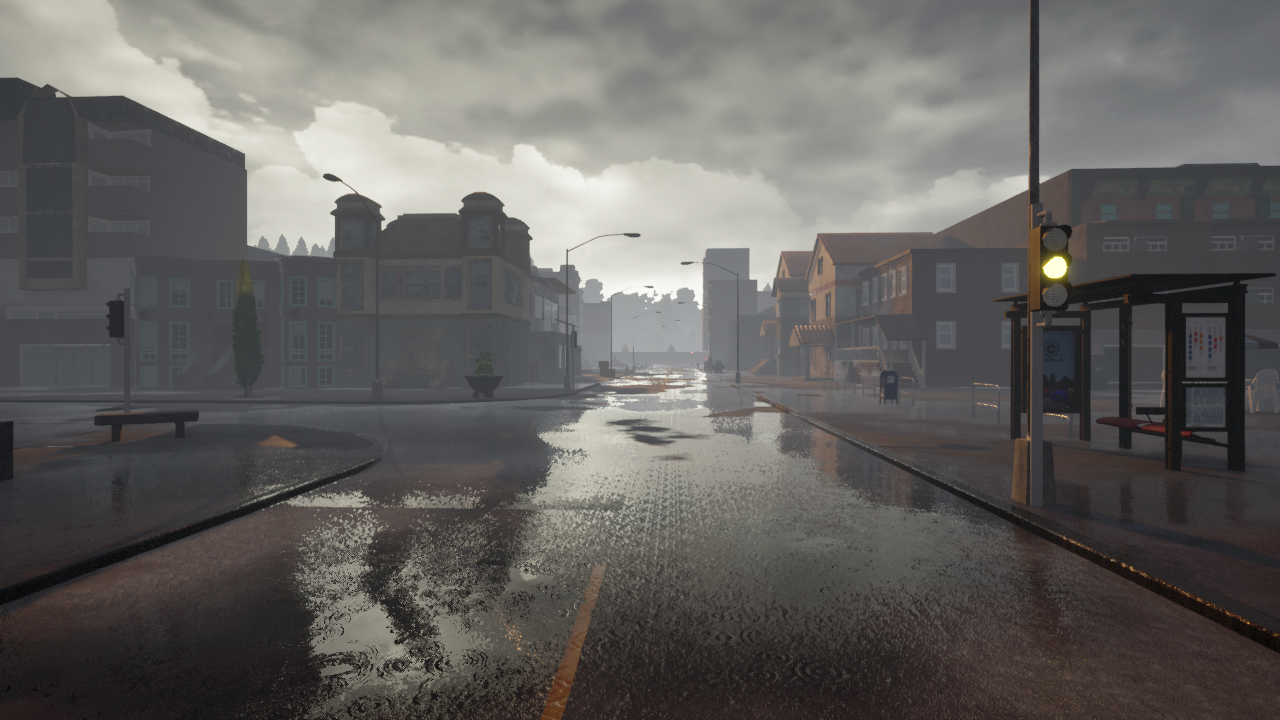yellow: (1028, 222, 1067, 312)
